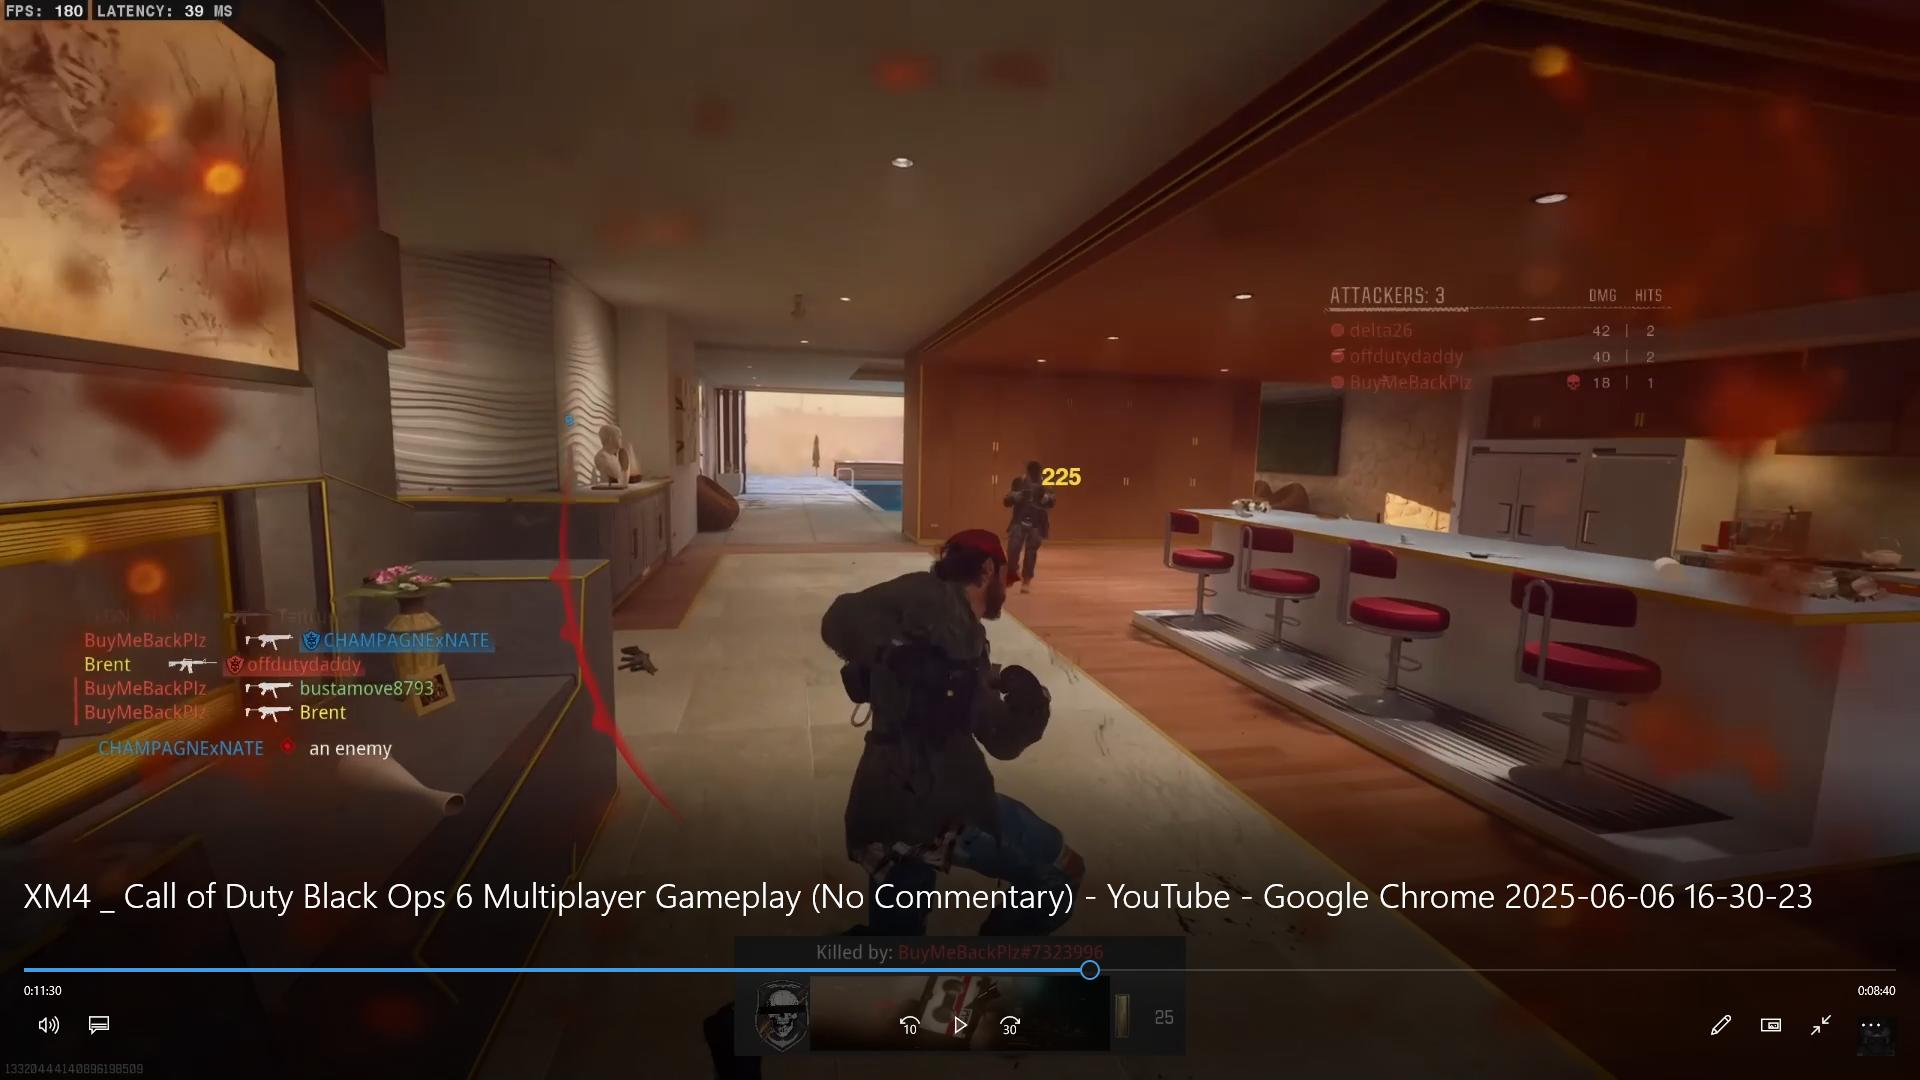Enemy: (996, 443, 1063, 589)
